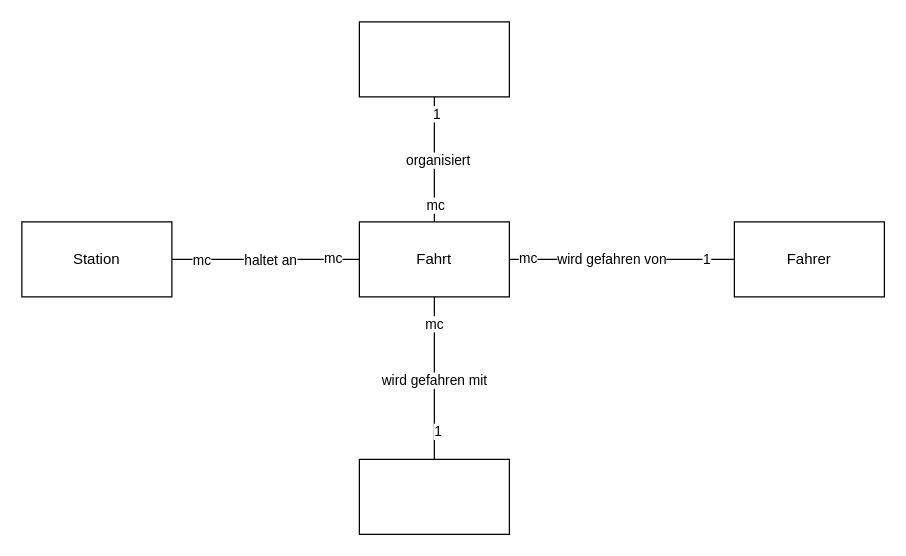
This 906x556 diagram has some shape labels left out. The box of each missing label's shape, as (x1, y1, x2, y2) in pixels:
Disponent: (358, 21, 509, 97)
Fahrzeug: (358, 458, 509, 534)
